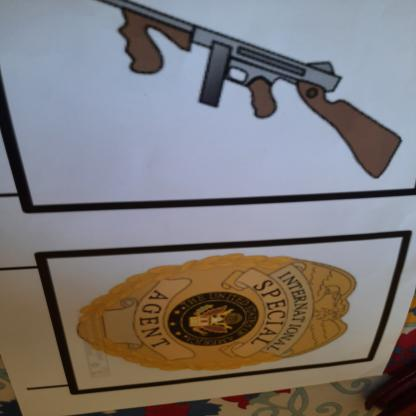Bootlegger: (74, 1, 416, 185)
G-man: (68, 245, 372, 380)
